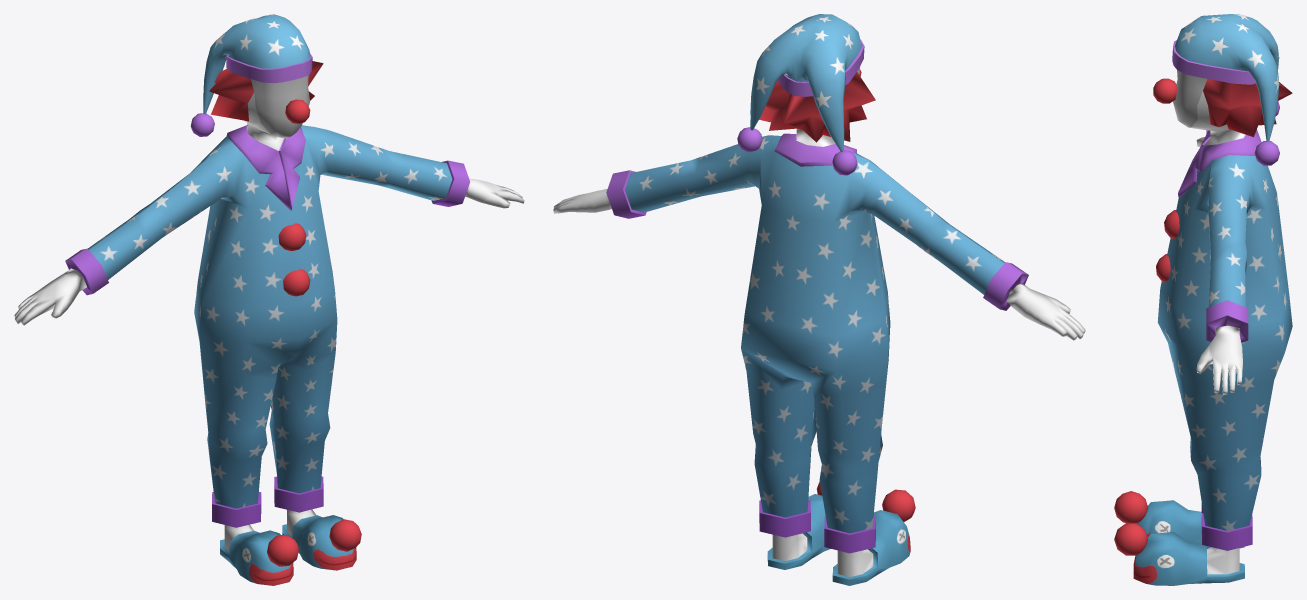
File: Billy.fbx
The picture shows the model from 3 angles, left to right: view 1: azimuth 30°, elevation 25°; view 2: azimuth 150°, elevation 25°; view 3: azimuth 270°, elevation 25°; orthographic projection. The views are drawn at different scales.
Visible parts, largest first — view 1: billy; view 2: billy; view 3: billy.
Boxes of the visible parts, x1,y1,x2,y2 form: billy: (14, 14, 524, 585); billy: (553, 14, 1085, 585); billy: (1114, 14, 1292, 585).
Bounding box in the file's own units: 178 × 176 × 52.74.
